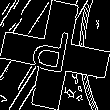P_S: (32, 27, 78, 83)
